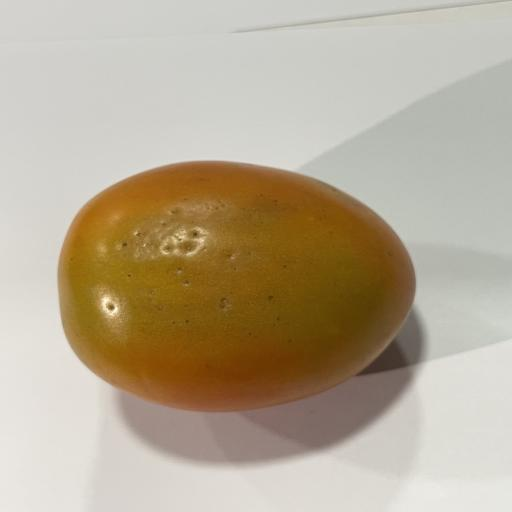unripe: (58, 161, 415, 411)
